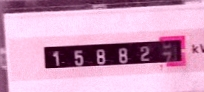1: (50, 49, 61, 67)
2: (138, 44, 150, 61)
5: (71, 48, 84, 65)
7: (160, 49, 172, 62)
8: (94, 47, 106, 64), (117, 46, 128, 62)
screen: (36, 32, 192, 73)
